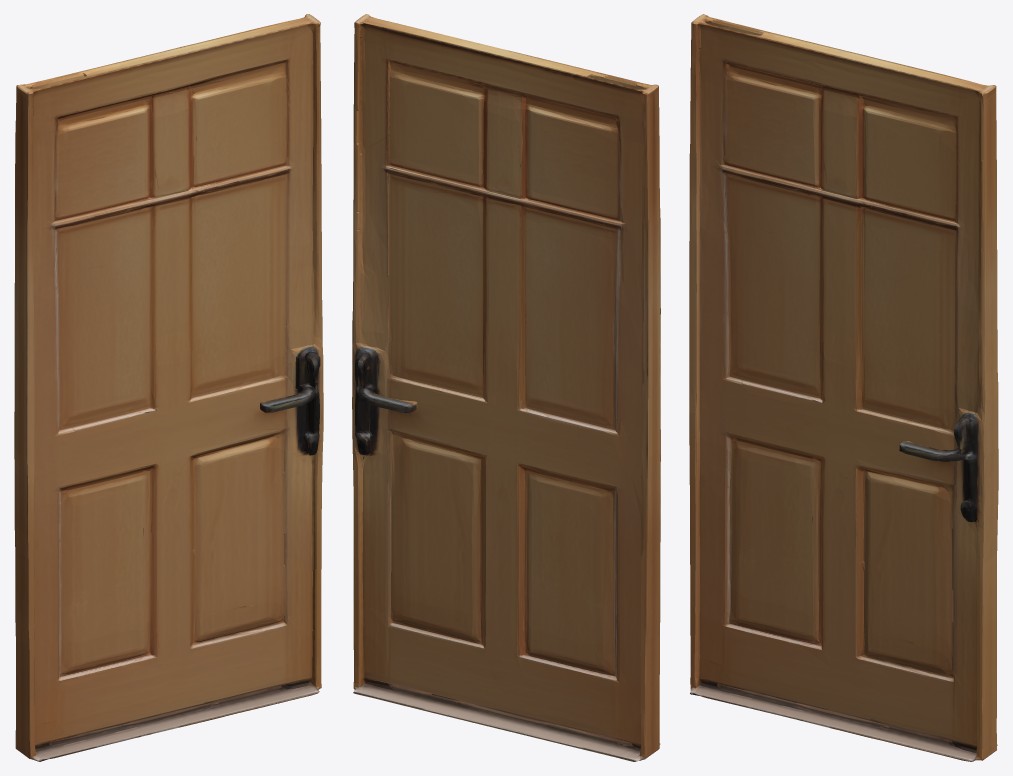
The model's file is door.glb.
3 renders of one model, left to right at view 1: azimuth 30°, elevation 25°; view 2: azimuth 150°, elevation 25°; view 3: azimuth 330°, elevation 25°, orthographic.
Visible parts, largest first — view 1: geometry_0.004; view 2: geometry_0.004; view 3: geometry_0.004.
Part boxes in pixels (x1=…): geometry_0.004: x1=14, y1=14, x2=323, y2=761; geometry_0.004: x1=352, y1=14, x2=660, y2=761; geometry_0.004: x1=689, y1=14, x2=998, y2=761.
Bounding box in the file's own units: 1.6 × 3.43 × 0.421.
1 material, 1 textured.
